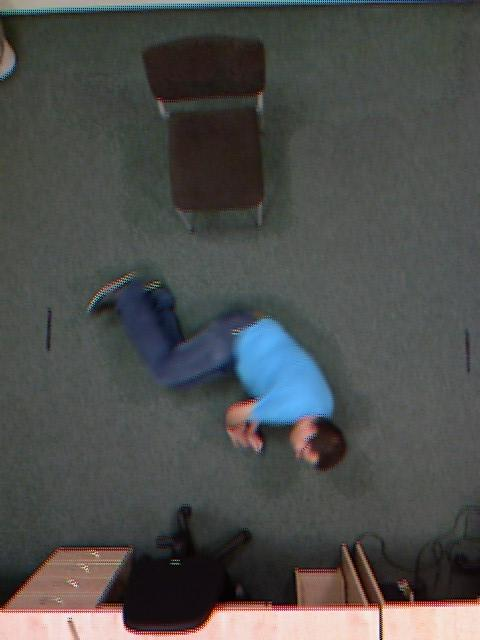fall: (141, 189, 289, 551)
